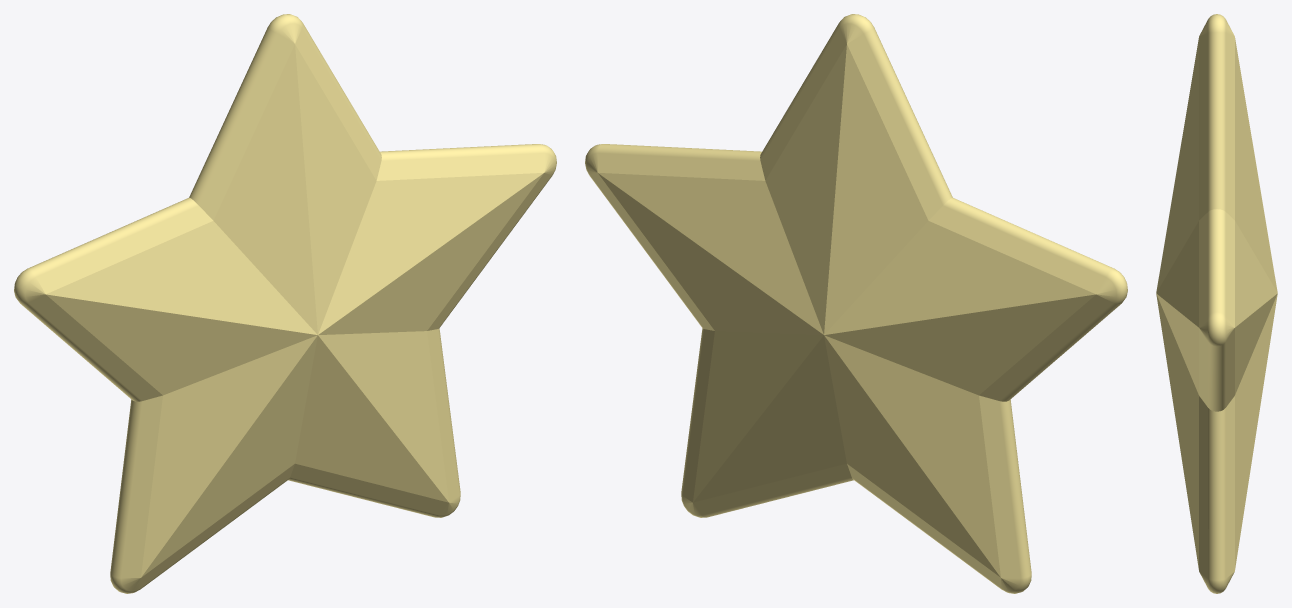
File: star.glb
The picture shows the model from 3 angles, left to right: view 1: azimuth 30°, elevation 25°; view 2: azimuth 150°, elevation 25°; view 3: azimuth 270°, elevation 25°; orthographic projection. The views are drawn at different scales.
Parts seen in each view (by area): view 1: Star; view 2: Star; view 3: Star.
Part boxes in pixels (x1,y1,x2,y2): Star: (14, 14, 556, 593); Star: (585, 14, 1127, 593); Star: (1156, 14, 1277, 593).
Size of the model in its own units: 0.7207 by 0.6878 by 0.15.
